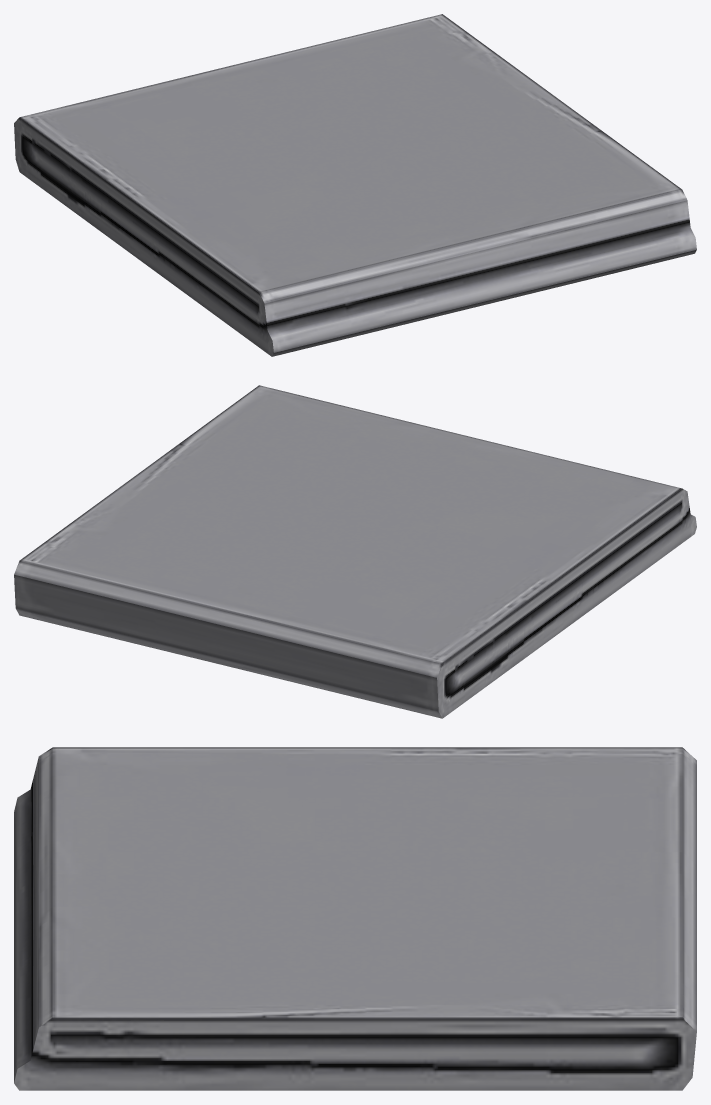
File: Sheet.FBX
3 views of the same model, one above another, from view 1: azimuth 30°, elevation 25°; view 2: azimuth 150°, elevation 25°; view 3: azimuth 270°, elevation 25° (orthographic). The views are drawn at different scales.
Parts seen in each view (by area): view 1: Sheet; view 2: Sheet; view 3: Sheet.
Part boxes in pixels (x1,y1,x2,y2): Sheet: [14, 14, 696, 356]; Sheet: [14, 385, 696, 718]; Sheet: [14, 747, 696, 1090].
Size of the model in its own units: 31.89 by 33.93 by 3.95.
1 material, 1 textured.
